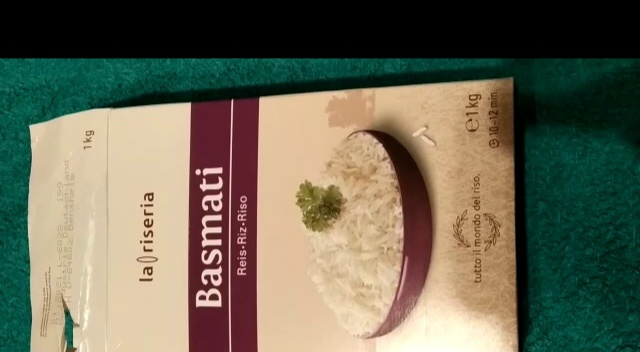basmati_rice: (20, 74, 525, 352)
